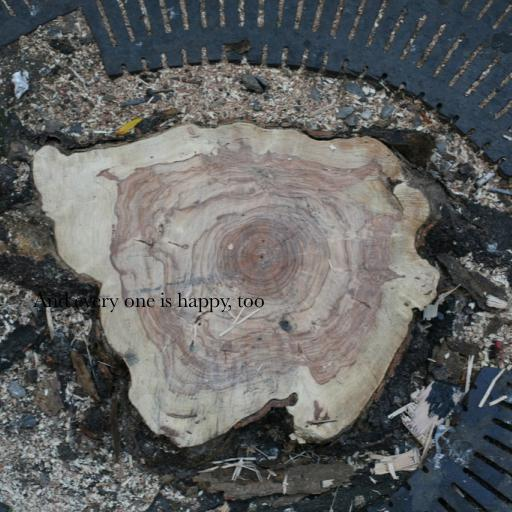Baskerville: (33, 292, 265, 313)
